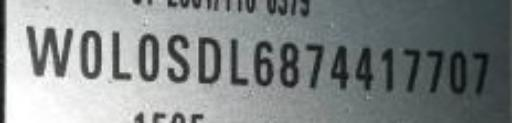letter: (24, 23, 76, 78), (137, 30, 165, 85), (75, 26, 105, 77), (106, 31, 136, 82), (163, 33, 193, 82), (223, 37, 253, 86), (194, 35, 222, 84), (298, 42, 326, 89), (326, 42, 354, 89), (276, 40, 302, 89), (397, 44, 423, 93), (421, 46, 447, 95), (253, 40, 277, 89), (470, 44, 494, 93), (375, 44, 399, 89), (445, 48, 469, 93), (353, 44, 377, 87)
